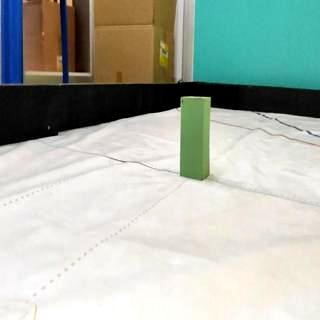greenbox: (179, 94, 211, 180)
